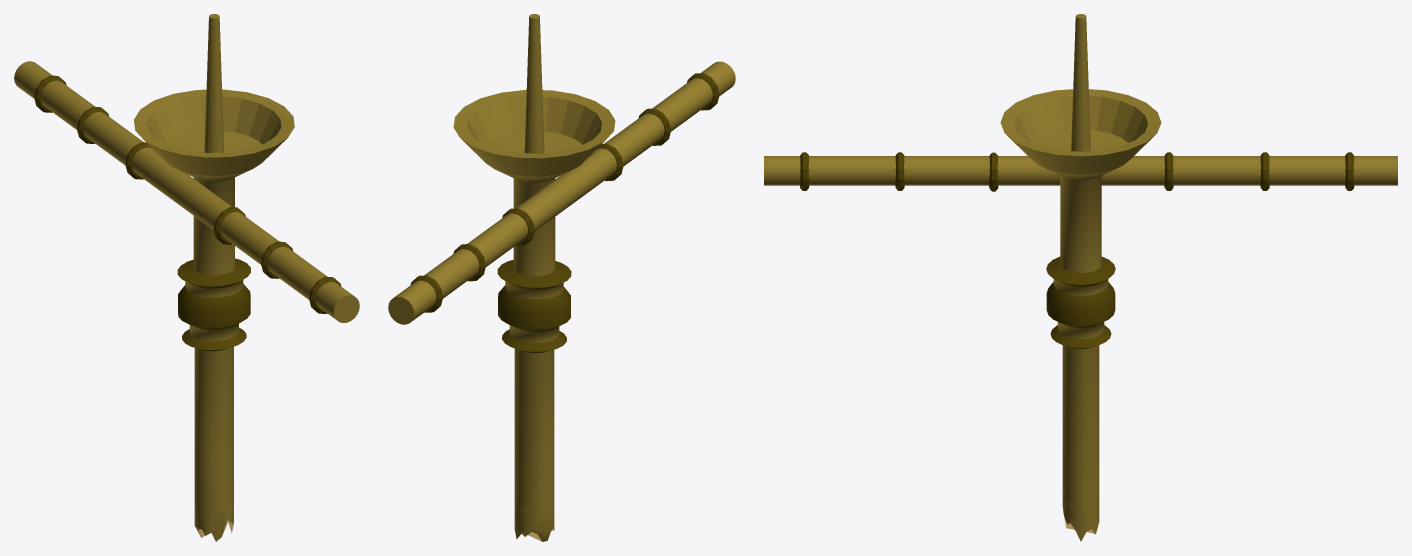
The model's file is Ship wreck mast part.fbx.
3 renders of one model, left to right at view 1: azimuth 30°, elevation 25°; view 2: azimuth 150°, elevation 25°; view 3: azimuth 270°, elevation 25°, orthographic.
Visible parts, largest first — view 1: polySurface59; view 2: polySurface59; view 3: polySurface59.
Part boxes in pixels (box(x1,y1,x2,y2)): polySurface59: box(14, 14, 359, 541); polySurface59: box(388, 14, 735, 541); polySurface59: box(764, 14, 1397, 541).
Bounding box in the file's own units: 219 × 780 × 866.
